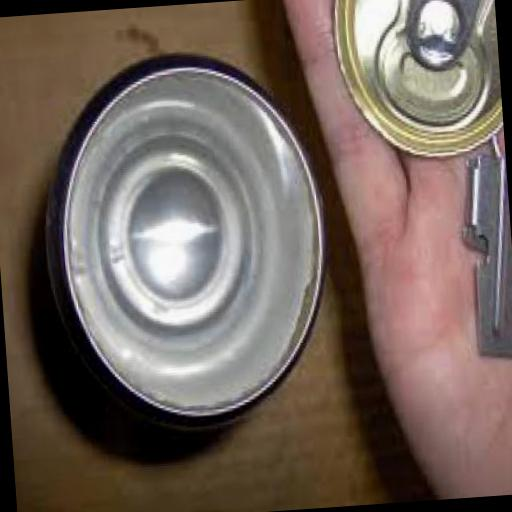metal: (30, 40, 336, 438), (328, 0, 503, 166), (454, 136, 512, 358)
